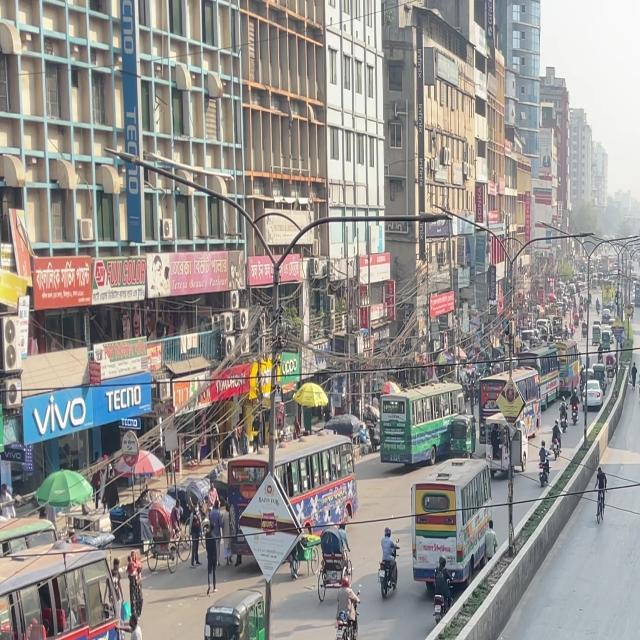bicycle: (592, 458, 611, 540)
bus: (2, 522, 133, 640), (411, 459, 501, 591), (380, 387, 473, 468)
motorbike: (333, 592, 358, 640), (535, 438, 555, 496), (380, 558, 398, 602), (568, 384, 580, 440)
rickshaw: (194, 573, 279, 640)
